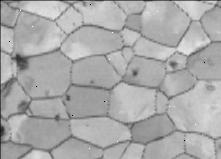good_void: (9, 53, 33, 71), (1, 76, 15, 100), (14, 98, 29, 113), (81, 0, 99, 9), (203, 81, 216, 93), (38, 88, 52, 98), (0, 123, 5, 138), (169, 59, 177, 68), (129, 69, 137, 78), (54, 113, 60, 122), (85, 121, 92, 128), (87, 78, 95, 84), (65, 94, 70, 100)
